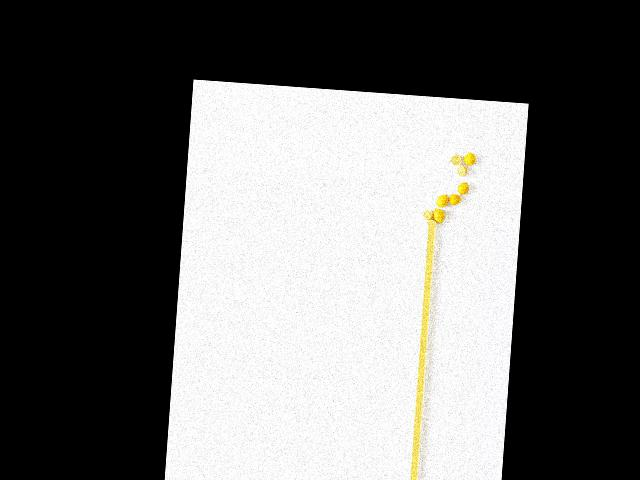lemon: (432, 203, 448, 224)
